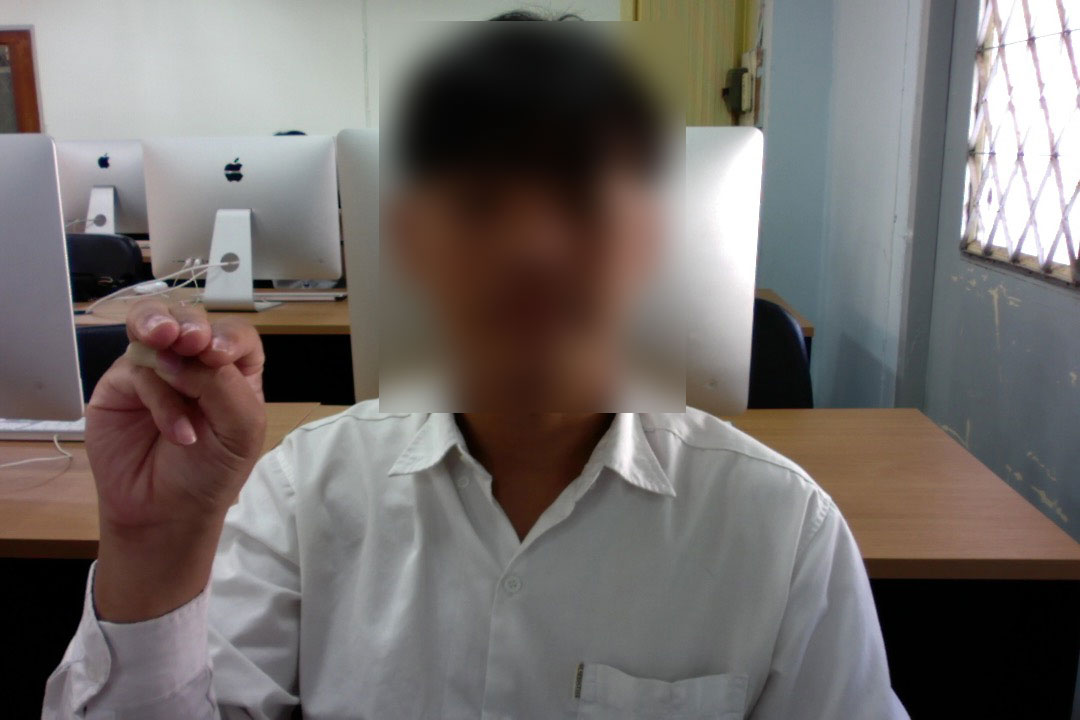mor: (81, 289, 270, 552)
